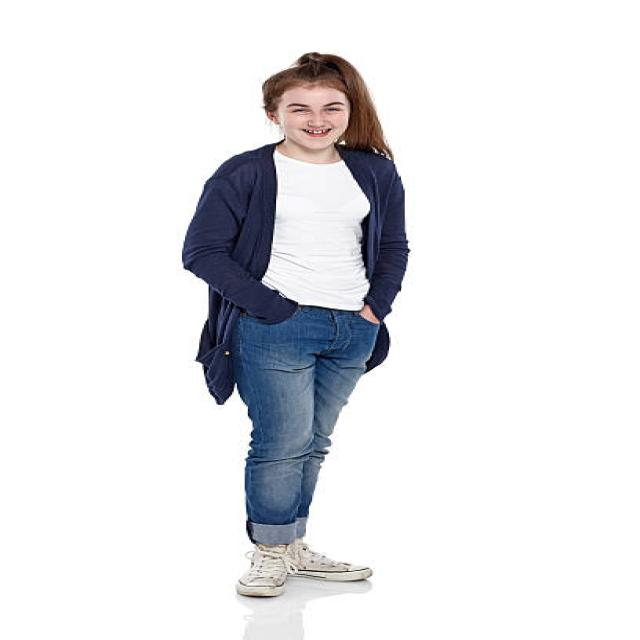Edited images: (168, 38, 444, 607)
